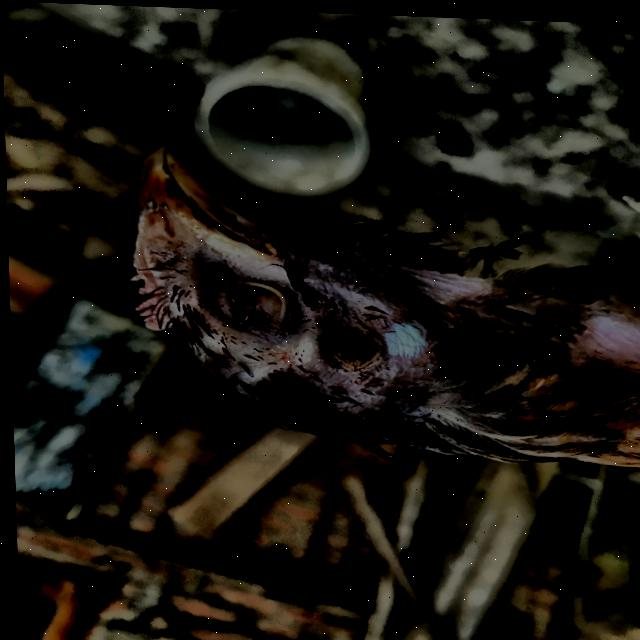Coryza: (85, 117, 577, 472)
